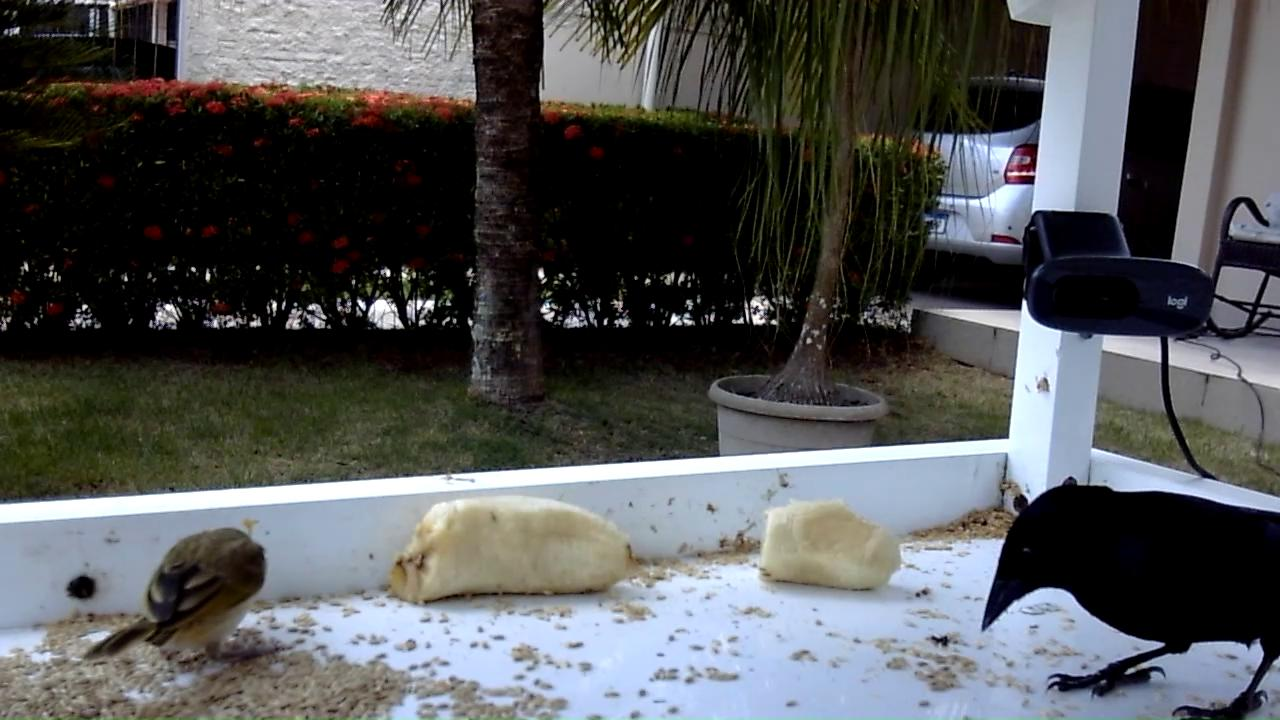canario_do_amazonas: (82, 526, 276, 668)
chupim: (979, 481, 1280, 720)
